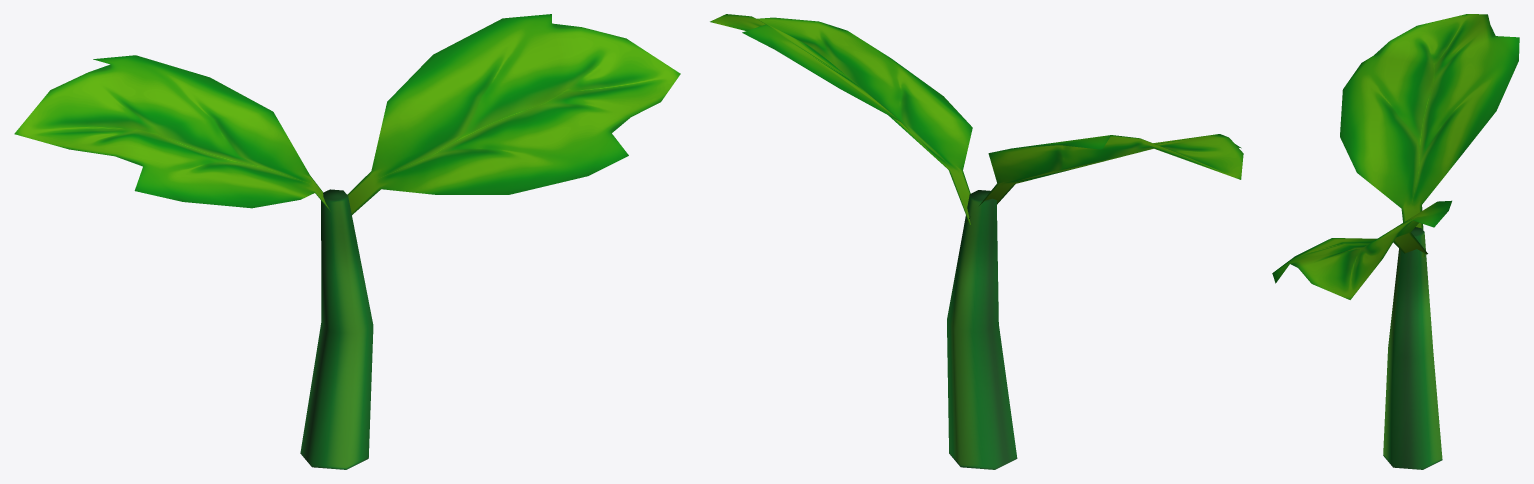
The model's file is littletomato.fbx.
3 renders of one model, left to right at view 1: azimuth 30°, elevation 25°; view 2: azimuth 150°, elevation 25°; view 3: azimuth 270°, elevation 25°, orthographic. The views are drawn at different scales.
Visible parts, largest first — view 1: SM_Tomato_Lv1; view 2: SM_Tomato_Lv1; view 3: SM_Tomato_Lv1.
Boxes of the visible parts, x1,y1,x2,y2 form: SM_Tomato_Lv1: [14, 14, 680, 469]; SM_Tomato_Lv1: [710, 14, 1243, 469]; SM_Tomato_Lv1: [1272, 14, 1519, 469].
Bounding box in the file's own units: 24.38 × 15.55 × 10.02.
